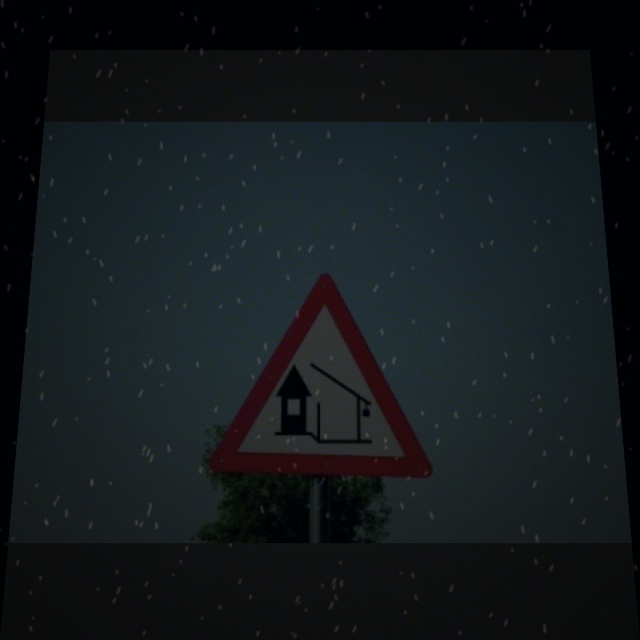Barrier_Ahead: (196, 264, 452, 485)
